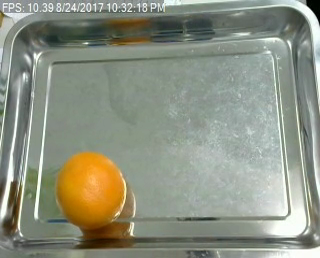Orange: (55, 152, 126, 229)
